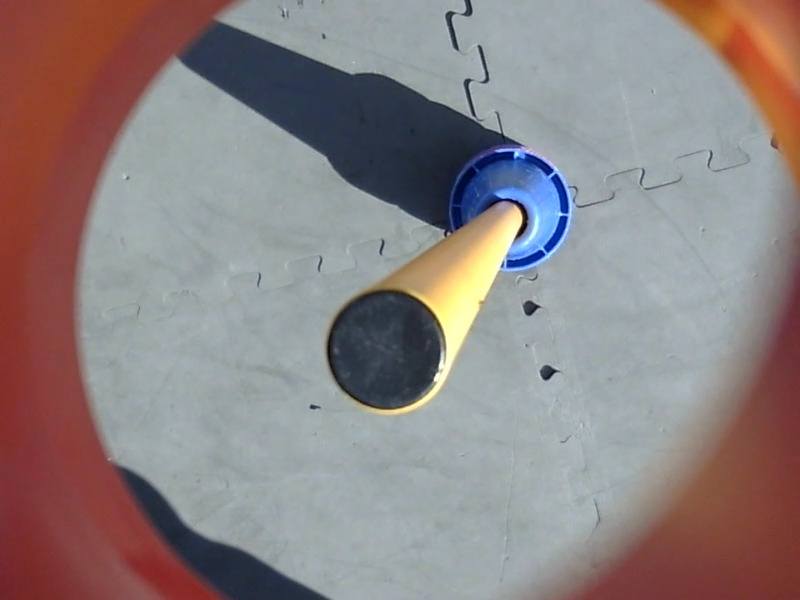tip: (321, 282, 459, 421)
